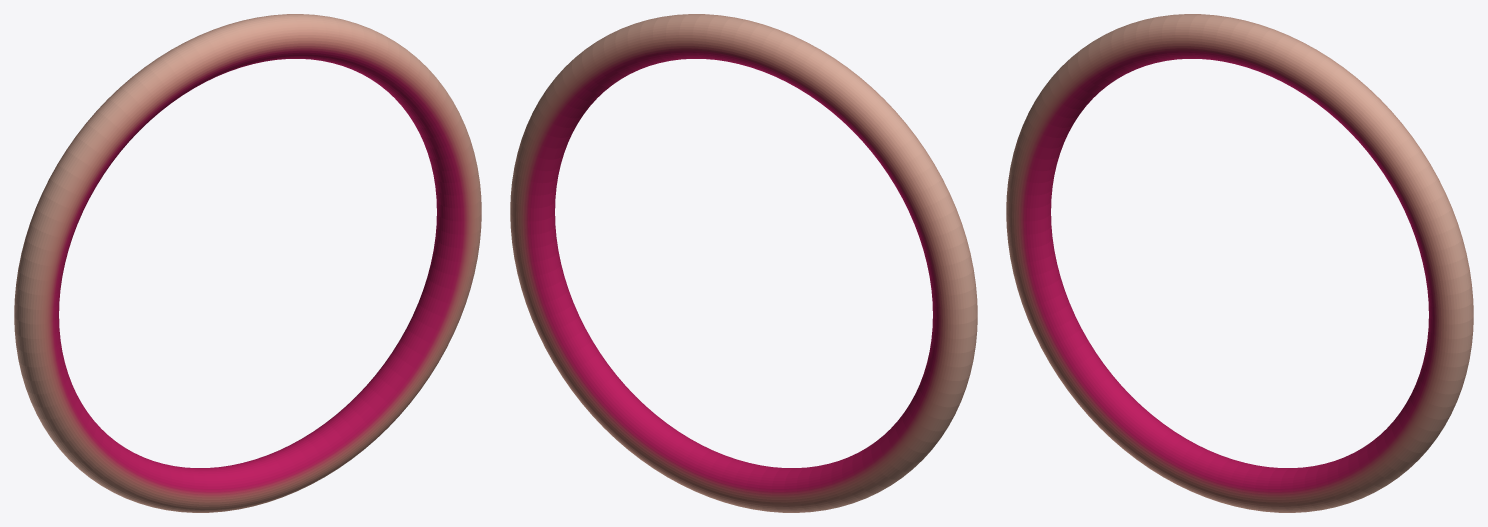
3 views of the same model, side by side, from view 1: azimuth 30°, elevation 25°; view 2: azimuth 150°, elevation 25°; view 3: azimuth 330°, elevation 25° (orthographic).
Visible parts, largest first — view 1: world; view 2: world; view 3: world.
Boxes of the visible parts, x1,y1,x2,y2 form: world: [14, 14, 481, 512]; world: [510, 14, 977, 512]; world: [1006, 14, 1473, 512].
Bounding box in the file's own units: 26.93 × 26.93 × 2.26.
